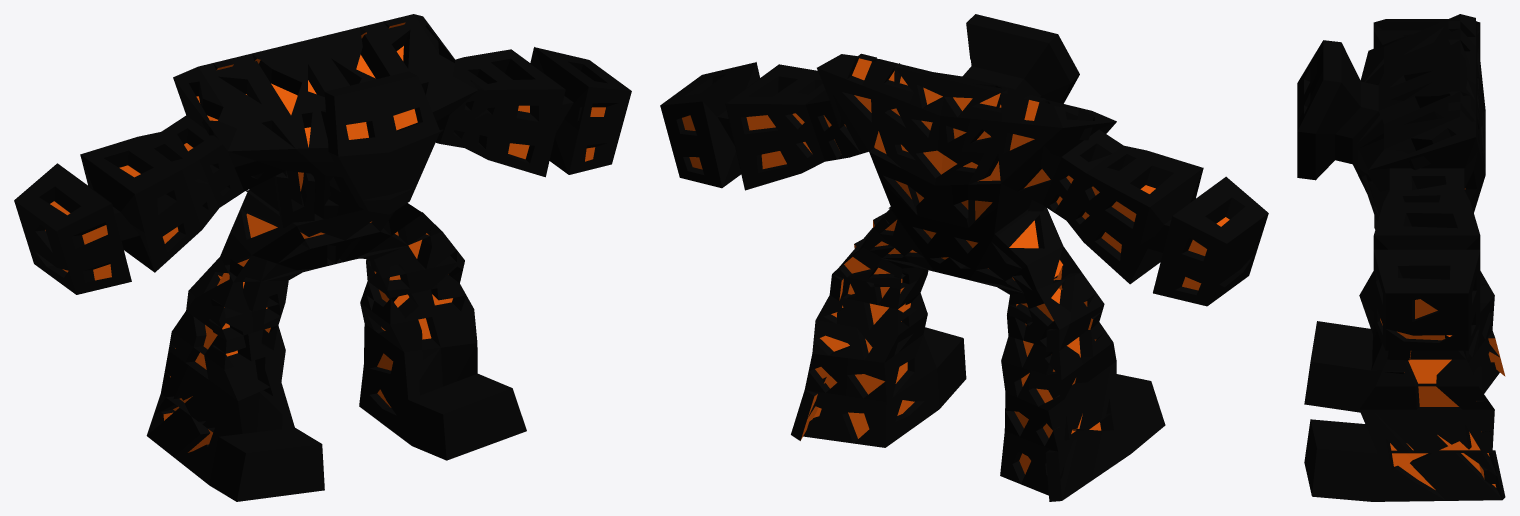
The model's file is Model_level 4 golem.fbx.
3 renders of one model, left to right at view 1: azimuth 30°, elevation 25°; view 2: azimuth 150°, elevation 25°; view 3: azimuth 270°, elevation 25°, orthographic. The views are drawn at different scales.
Parts seen in each view (by area): view 1: Cube; view 2: Cube; view 3: Cube.
Boxes of the visible parts, left/top/right/bottom form: Cube: left=14, top=14, right=631, bottom=501; Cube: left=660, top=14, right=1268, bottom=501; Cube: left=1297, top=14, right=1505, bottom=501.
Size of the model in its own units: 885 by 573 by 284.
